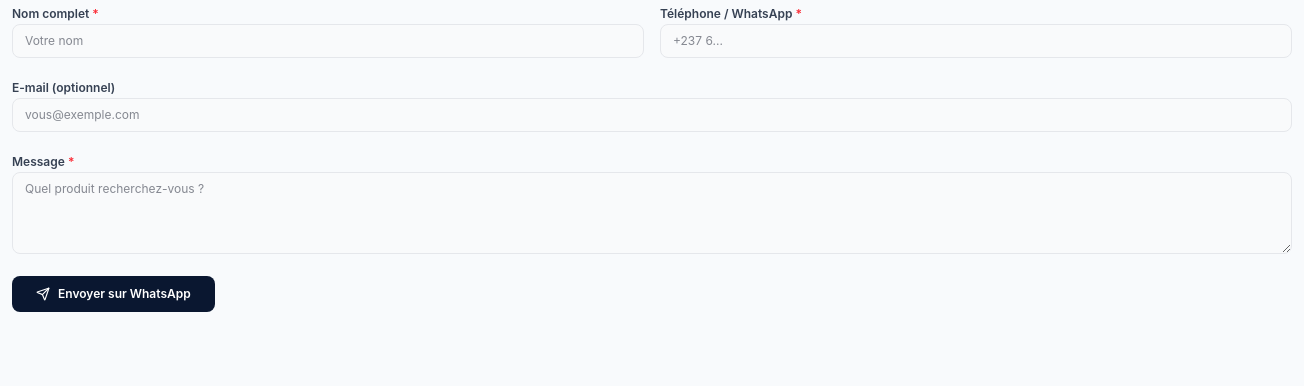
Test case: ContactForm › affiche une erreur si téléphone trop court
In the field labelled "Nom complet *": (328, 41) left=12, top=24, right=644, bottom=58, type "Jean Dupont"
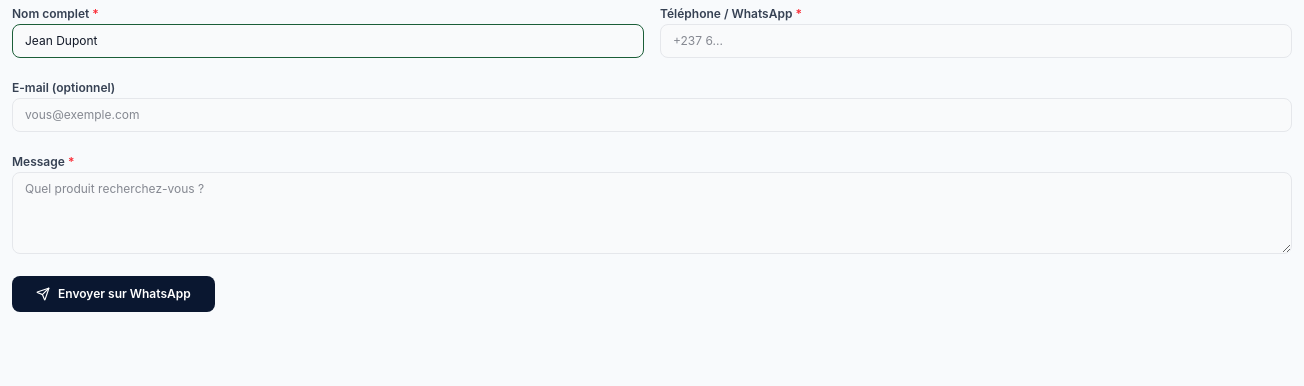
In the field labelled "Téléphone / WhatsApp *": (976, 41) left=660, top=24, right=1292, bottom=58, type "123"
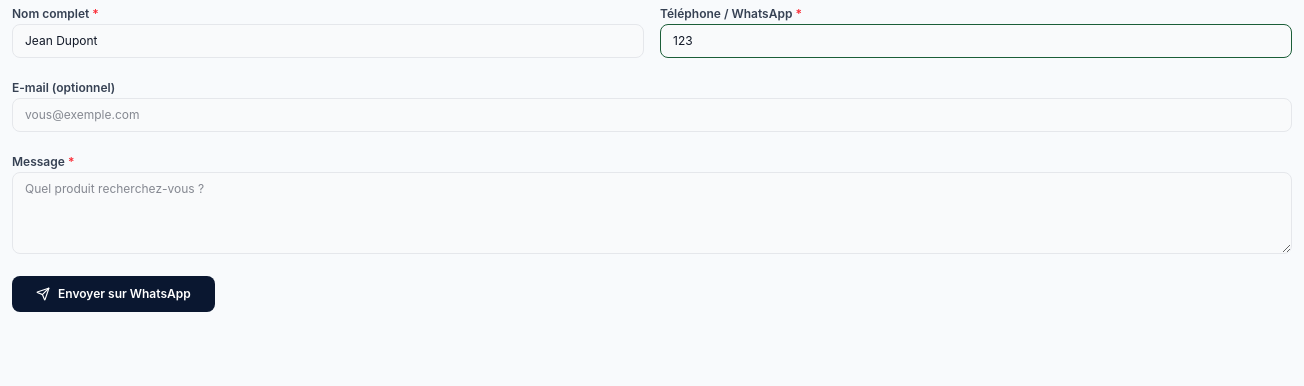
In the text box labelled "Message *": (652, 213) left=12, top=172, right=1292, bottom=254, type "Je cherche une chaise en bois."
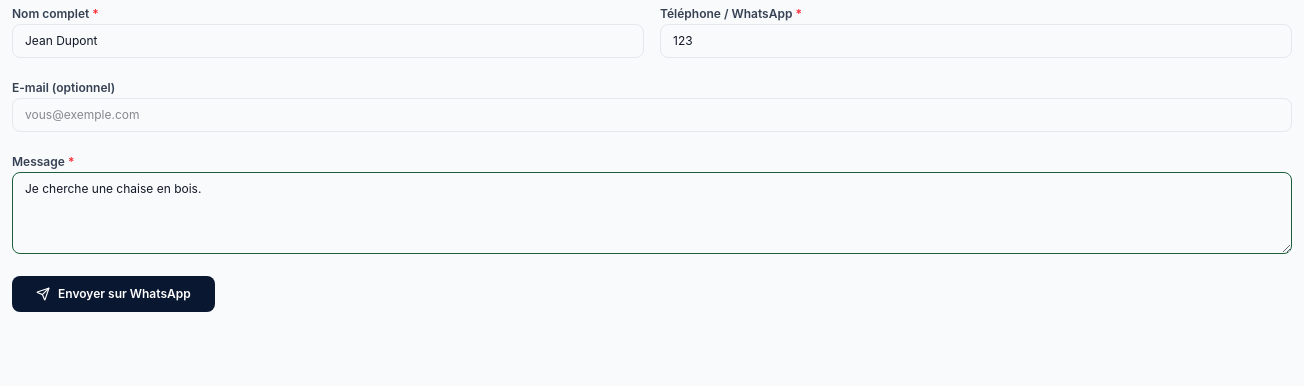
Click the button "Envoyer sur WhatsApp": (113, 294) left=12, top=276, right=215, bottom=312
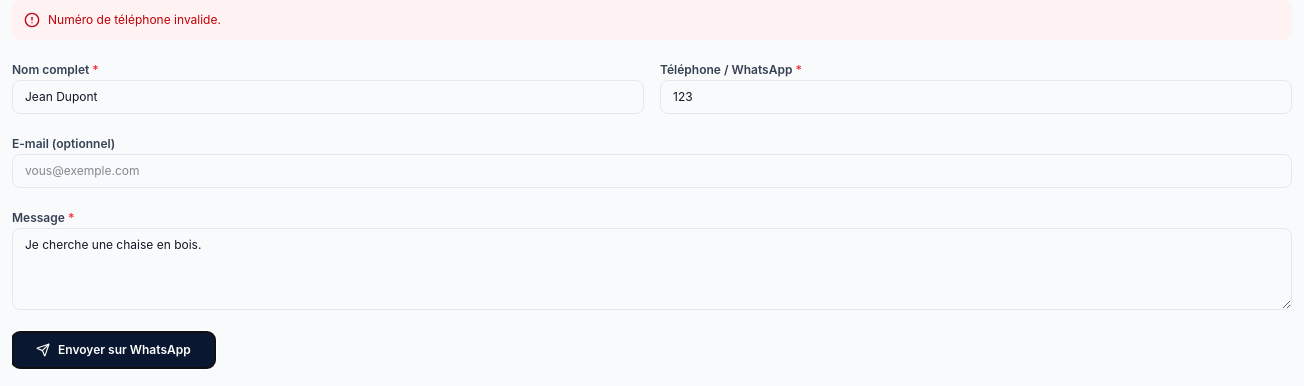
Result: the message shows "téléphone invalide" at left=48, top=12, right=221, bottom=27
